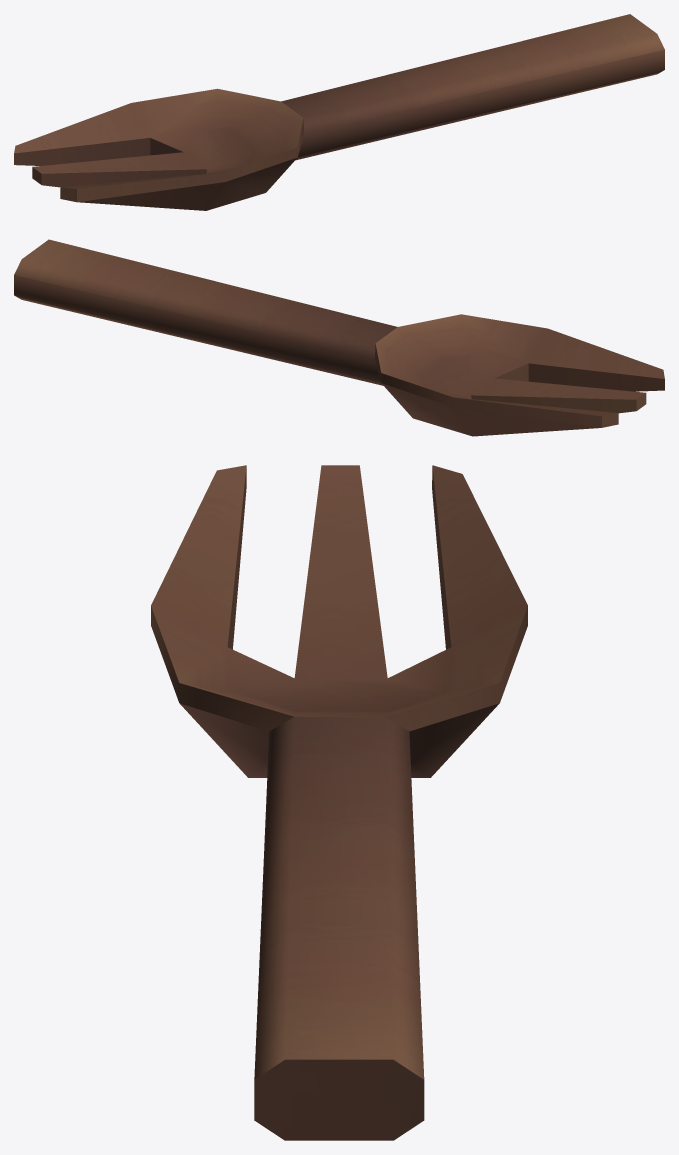
File: fork_cuttlery_wood.fbx
3 renders of one model, top to bottom at view 1: azimuth 30°, elevation 25°; view 2: azimuth 150°, elevation 25°; view 3: azimuth 270°, elevation 25°, orthographic. The views are drawn at different scales.
Visible parts, largest first — view 1: fork_cuttlery_wood; view 2: fork_cuttlery_wood; view 3: fork_cuttlery_wood.
Boxes of the visible parts, <box> form: fork_cuttlery_wood: <box>14,14,664,210</box>; fork_cuttlery_wood: <box>14,239,664,436</box>; fork_cuttlery_wood: <box>151,465,527,1140</box>.
Bounding box in the file's own units: 35.39 × 3.68 × 9.53.
